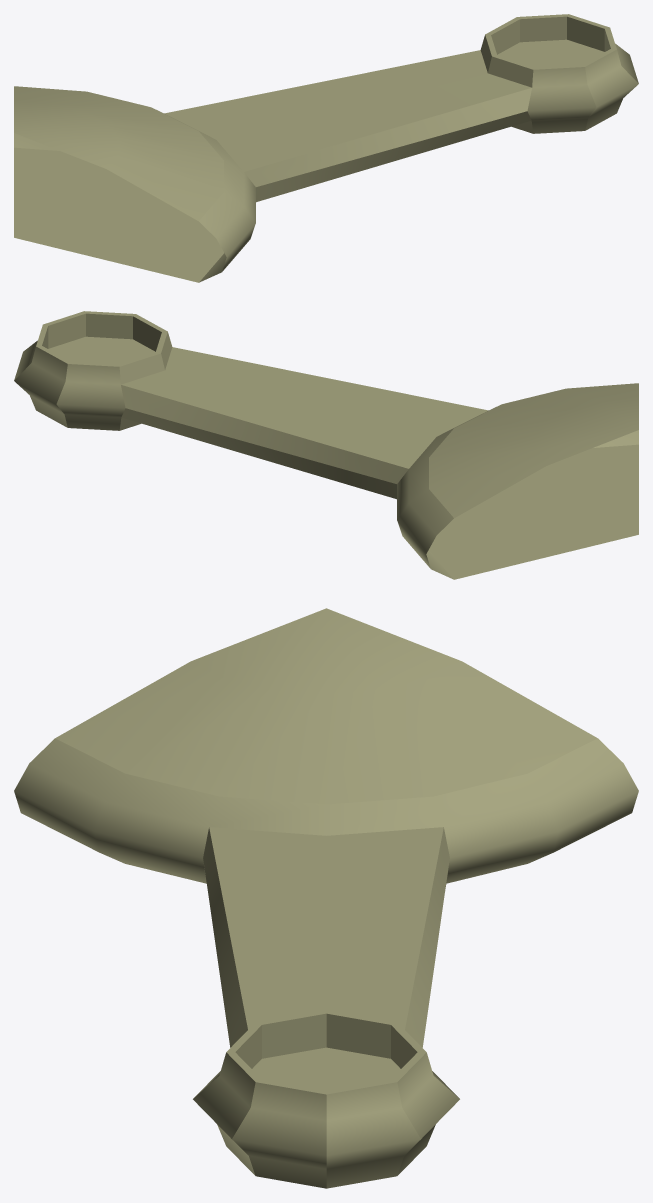
3 views of the same model, one above another, from view 1: azimuth 30°, elevation 25°; view 2: azimuth 150°, elevation 25°; view 3: azimuth 270°, elevation 25° (orthographic). The views are drawn at different scales.
Visible parts, largest first — view 1: pCylinder7; view 2: pCylinder7; view 3: pCylinder7.
Part boxes in pixels (box(x1,y1,x2,y2)): pCylinder7: box(14, 14, 638, 282); pCylinder7: box(14, 311, 638, 579); pCylinder7: box(14, 608, 638, 1188).
Bounding box in the file's own units: 12.58 × 2.05 × 7.52.
